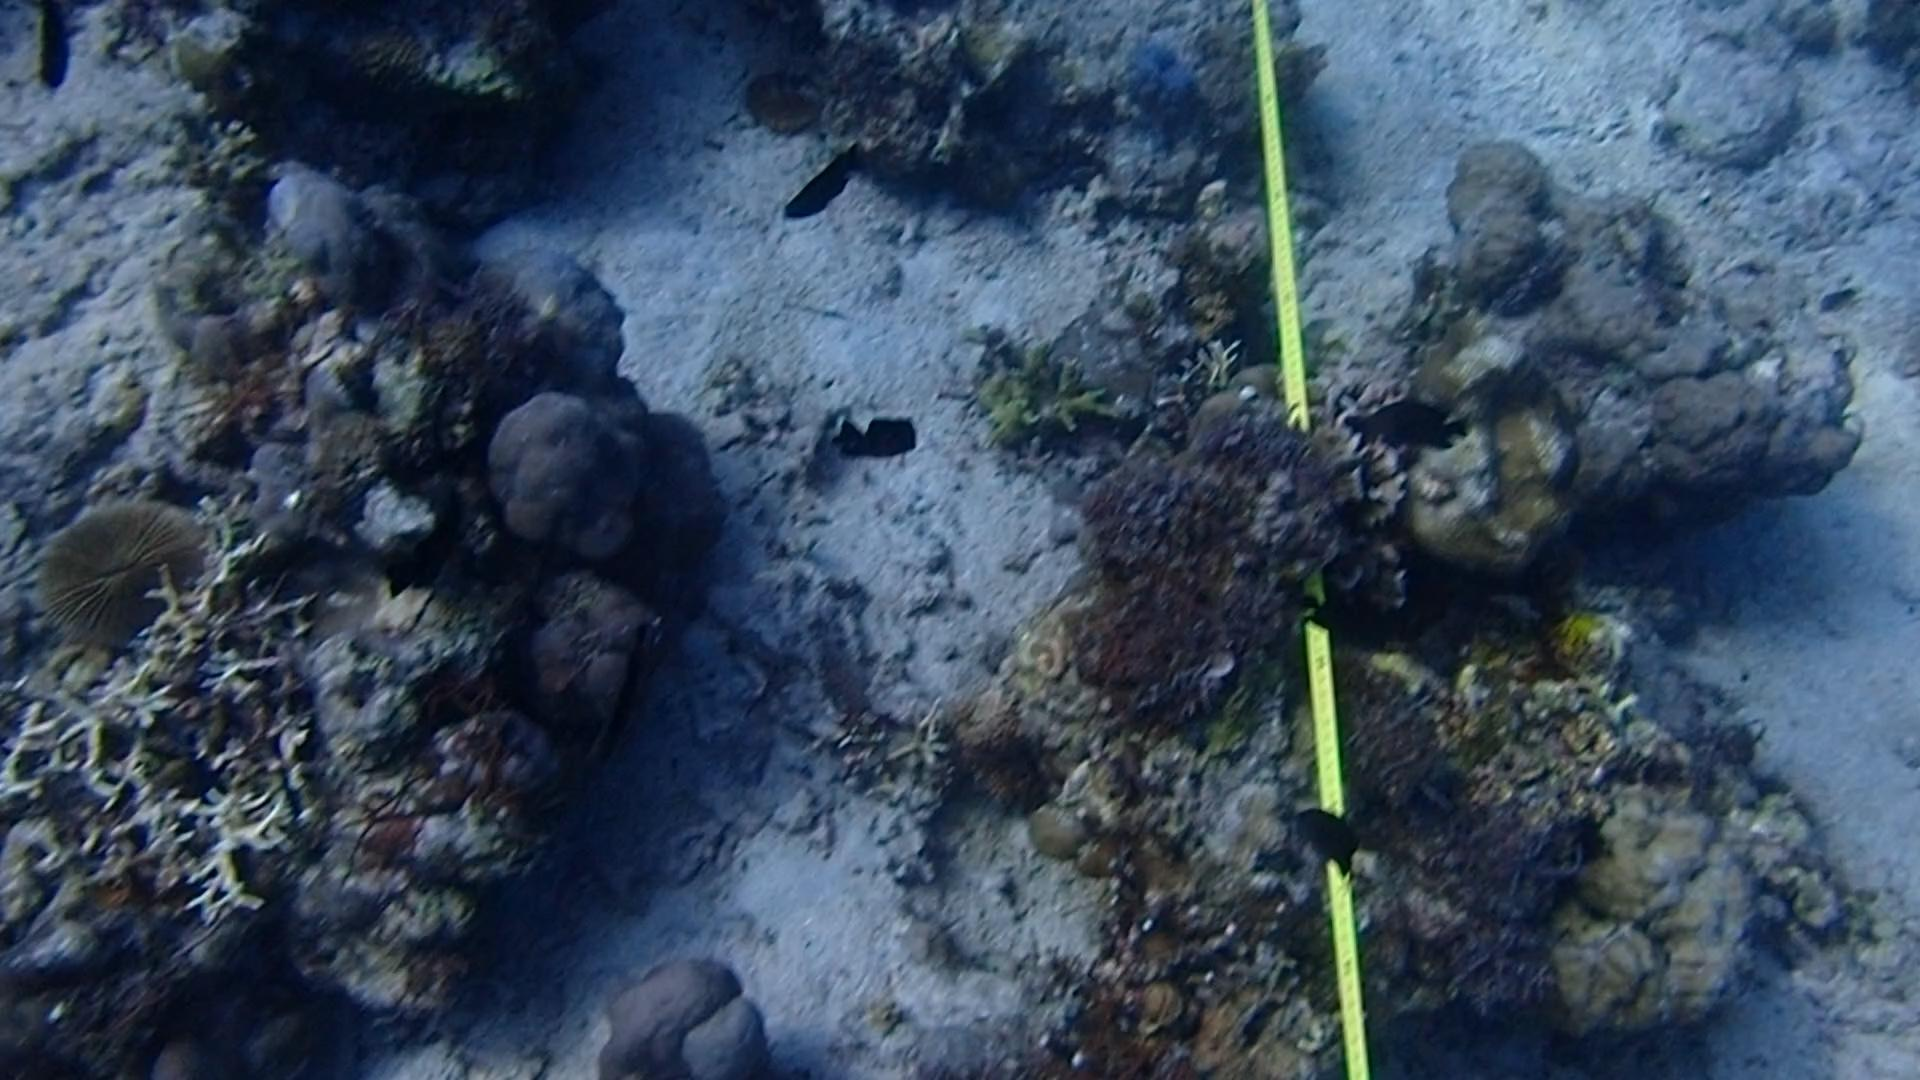Dark Fish: (393, 476, 485, 617), (1331, 390, 1464, 469), (1286, 795, 1379, 894), (781, 133, 868, 239), (1311, 585, 1416, 663), (597, 625, 655, 742), (833, 405, 916, 476), (22, 5, 87, 91)
